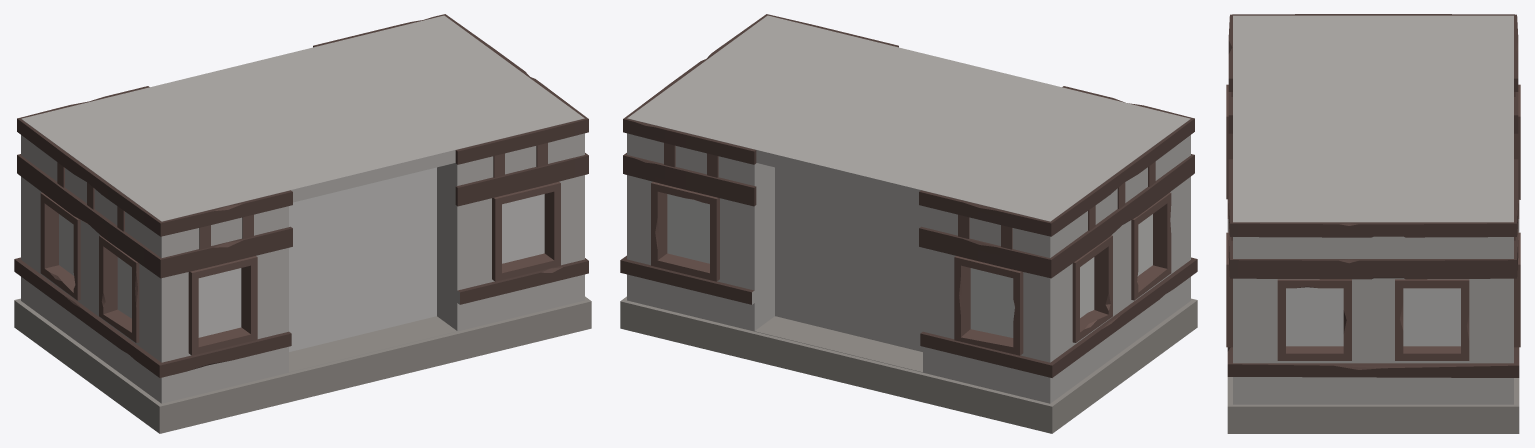
File: SM_Env_Base_02.fbx
3 renders of one model, left to right at view 1: azimuth 30°, elevation 25°; view 2: azimuth 150°, elevation 25°; view 3: azimuth 270°, elevation 25°, orthographic.
Parts seen in each view (by area): view 1: SM_Env_Base_02; view 2: SM_Env_Base_02; view 3: SM_Env_Base_02.
Part boxes in pixels (<box>): SM_Env_Base_02: <box>14,14,591,433</box>; SM_Env_Base_02: <box>620,14,1197,433</box>; SM_Env_Base_02: <box>1226,14,1520,433</box>.
Size of the model in its own units: 898 by 416 by 529.
Materials: 1 (1 with a texture image).
